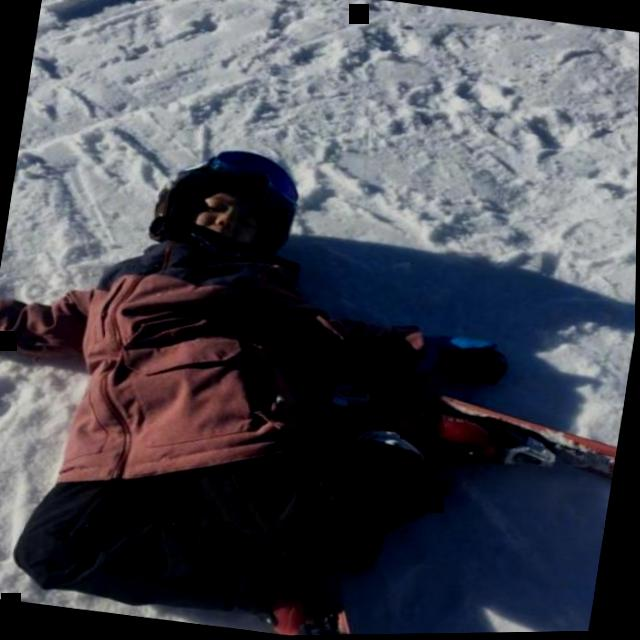Fall-Detected: (0, 107, 549, 640)
